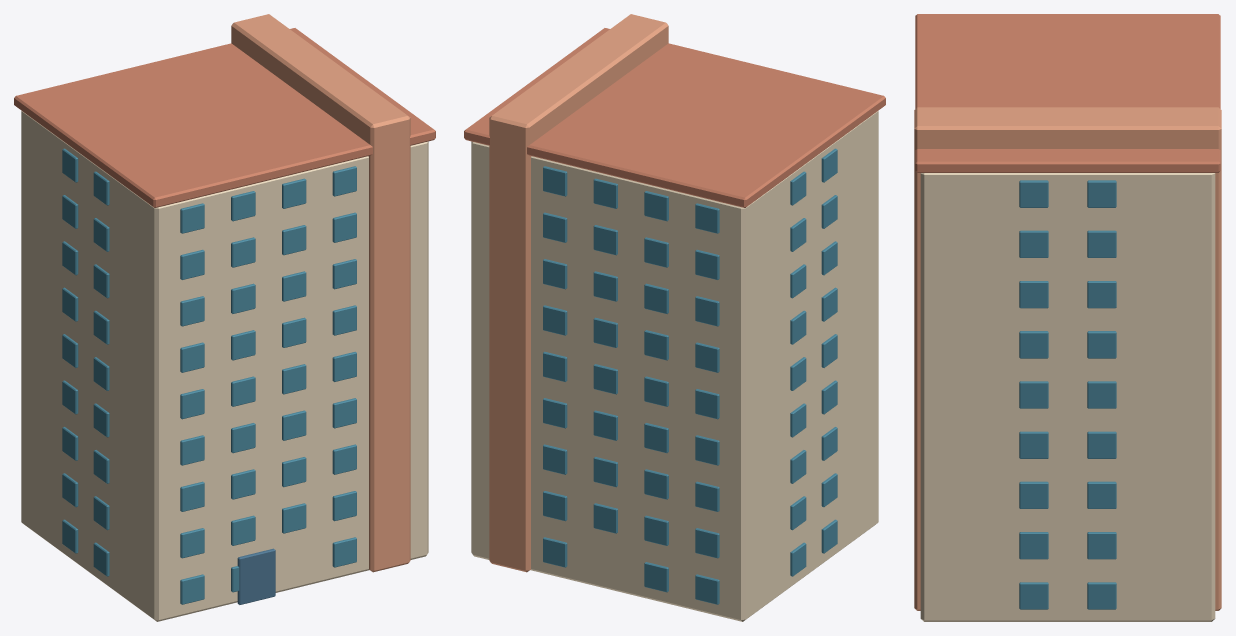
File: RES_HIGH_2x2_001.glb
The picture shows the model from 3 angles, left to right: view 1: azimuth 30°, elevation 25°; view 2: azimuth 150°, elevation 25°; view 3: azimuth 270°, elevation 25°; orthographic projection. The views are drawn at different scales.
Visible parts, largest first — view 1: RES_HIGH_2x2_001_Visual; view 2: RES_HIGH_2x2_001_Visual; view 3: RES_HIGH_2x2_001_Visual.
Boxes of the visible parts, box(x1,y1,x2,y2) form: RES_HIGH_2x2_001_Visual: box(14, 14, 435, 621); RES_HIGH_2x2_001_Visual: box(464, 14, 885, 621); RES_HIGH_2x2_001_Visual: box(914, 14, 1221, 621).
Size of what is drawn, in the model's own units: 3.38 by 5.12 by 2.94.
